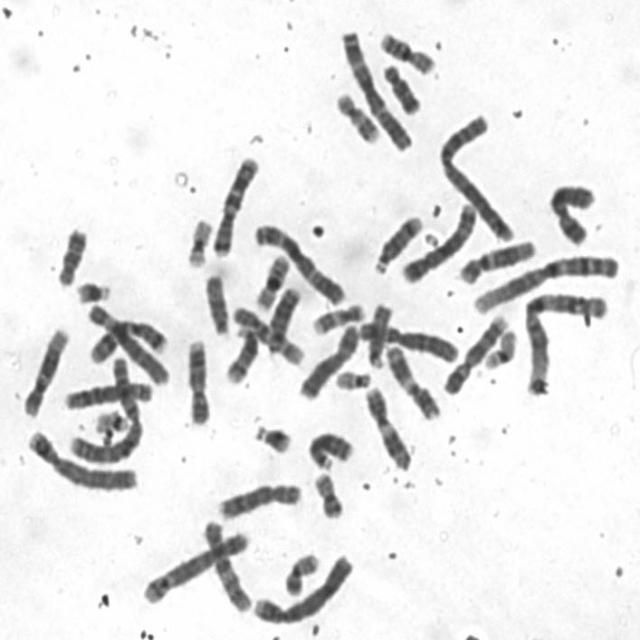A1: (468, 247, 622, 317), (520, 285, 611, 397)
A2: (433, 108, 518, 245), (65, 351, 149, 468)
A3: (335, 23, 415, 154), (249, 216, 349, 307)
B4: (249, 548, 356, 628), (22, 423, 140, 495)
B5: (138, 524, 252, 606), (396, 196, 479, 284)
C10: (198, 512, 256, 614), (229, 301, 306, 367)
C11: (381, 339, 444, 422), (361, 380, 415, 472)
C12: (19, 320, 72, 419), (454, 232, 538, 286)
C6: (84, 299, 173, 387), (355, 318, 461, 366)
C7: (207, 149, 262, 258), (86, 316, 169, 366)
C8: (214, 476, 305, 521), (58, 374, 156, 412)
C9: (437, 310, 510, 398), (182, 333, 213, 427)
D13: (262, 282, 302, 358), (304, 425, 358, 472)
D14: (370, 208, 426, 276), (219, 321, 261, 386)
D15: (200, 268, 234, 338), (364, 299, 395, 370)
E16: (375, 26, 439, 76), (251, 250, 292, 312)
E17: (331, 86, 382, 145), (308, 296, 368, 336)
E18: (379, 57, 426, 117), (52, 220, 90, 288)
F19: (480, 324, 520, 372), (182, 212, 215, 270)
F20: (280, 547, 323, 597), (308, 467, 346, 521)
G21: (249, 416, 295, 456), (72, 276, 114, 305)
G22: (91, 406, 133, 435), (331, 365, 375, 391)
X: (296, 320, 361, 402), (543, 178, 599, 248)
